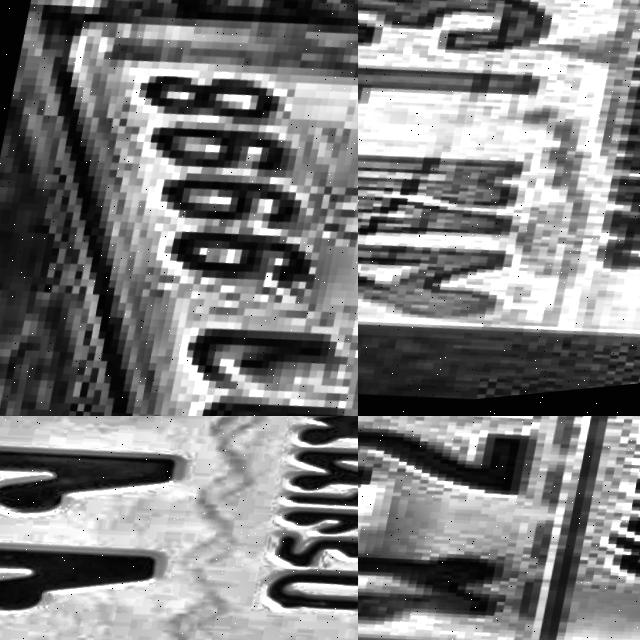license-plate: (0, 0, 358, 416), (358, 0, 640, 416), (0, 416, 358, 640), (358, 416, 640, 640)
